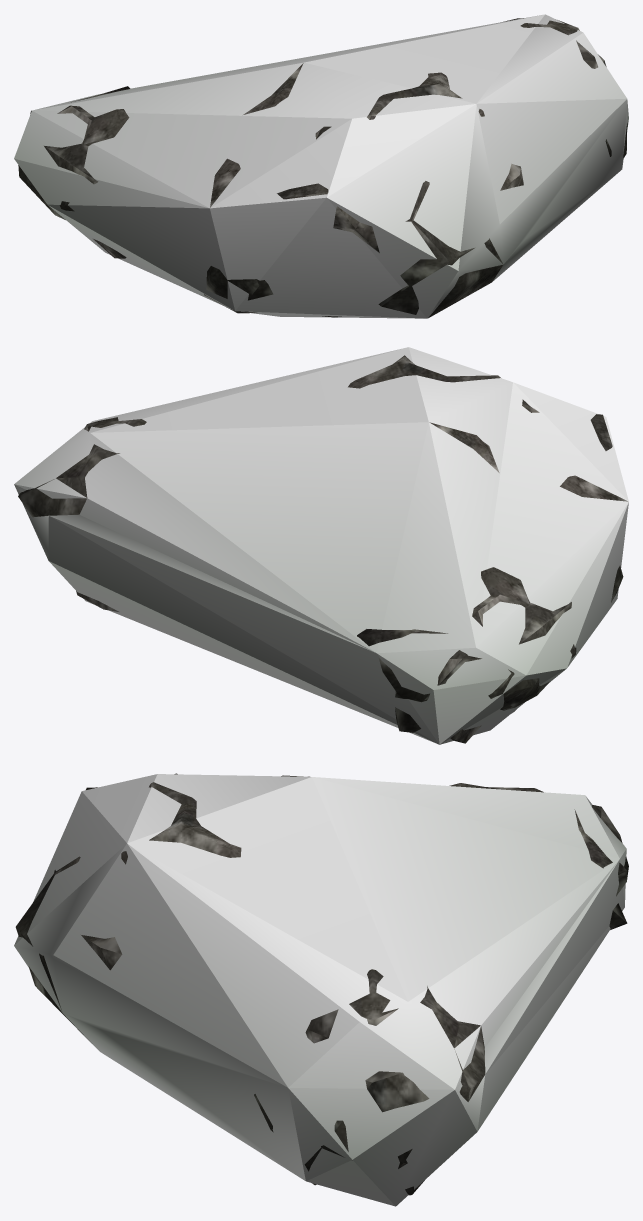
The model's file is shore_rock_d_cluster.glb.
The picture shows the model from 3 angles, top to bottom: view 1: azimuth 30°, elevation 25°; view 2: azimuth 150°, elevation 25°; view 3: azimuth 270°, elevation 25°; orthographic projection. The views are drawn at different scales.
Visible parts, largest first — view 1: col_shore_rock_d_cluster, shore_rock_d_cluster; view 2: col_shore_rock_d_cluster, shore_rock_d_cluster; view 3: col_shore_rock_d_cluster, shore_rock_d_cluster.
Boxes of the visible parts, x1,y1,x2,y2 form: col_shore_rock_d_cluster: (14,14,628,318); shore_rock_d_cluster: (18,18,628,318); col_shore_rock_d_cluster: (14,347,628,744); shore_rock_d_cluster: (18,355,627,743); col_shore_rock_d_cluster: (14,774,626,1206); shore_rock_d_cluster: (15,773,628,1195).
Bounding box in the file's own units: 2.62 × 1.05 × 2.16.
Materials: 1 (1 with a texture image).
